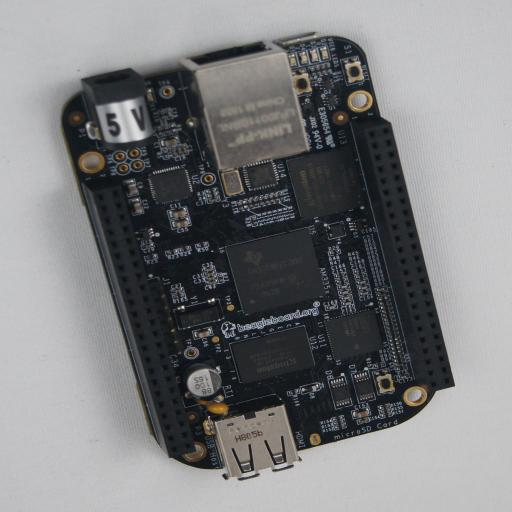Beaglebone Black: (60, 32, 455, 481)
